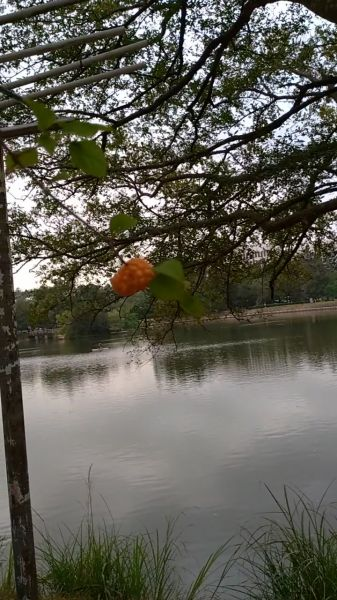eggs: (104, 254, 159, 297)
